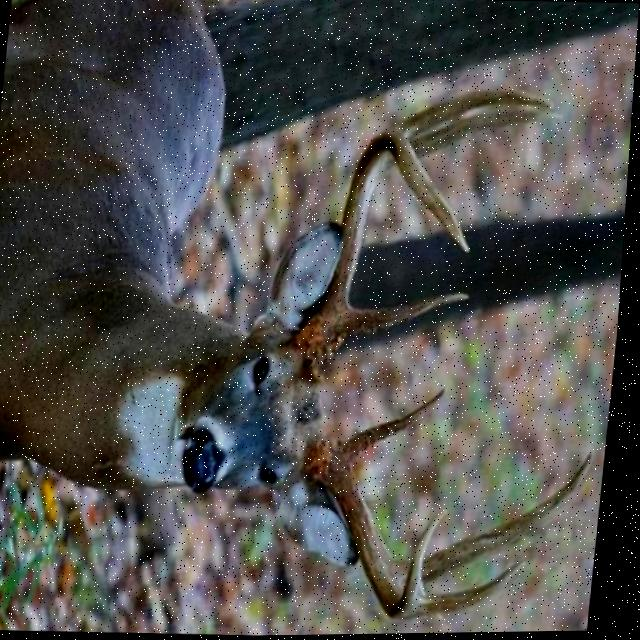L-F: (310, 437, 450, 620)
L-G1: (343, 387, 452, 462)
L-G3: (424, 561, 535, 619)
R-F: (298, 127, 475, 375)
R-G1: (350, 293, 474, 336)
